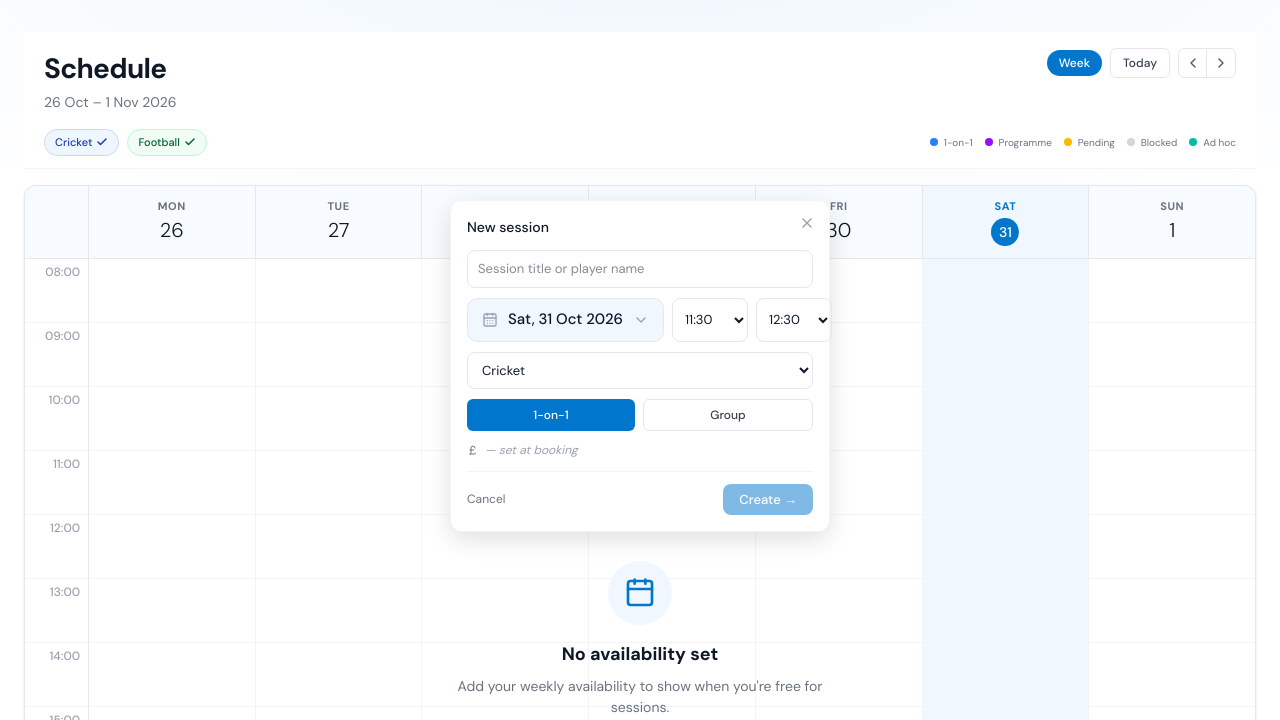
Scenario: Schedule — ?action=new-session auto-open (BUG-43) › the X button dismisses and stays dismissed
This screenshot has width=1280, height=720.
(page scrolled)
Check: the heading "New session" is shown, box 467,218 -> 549,236
Step 1. Click the button named "Close" → click(807, 223), box 785,201 -> 829,245
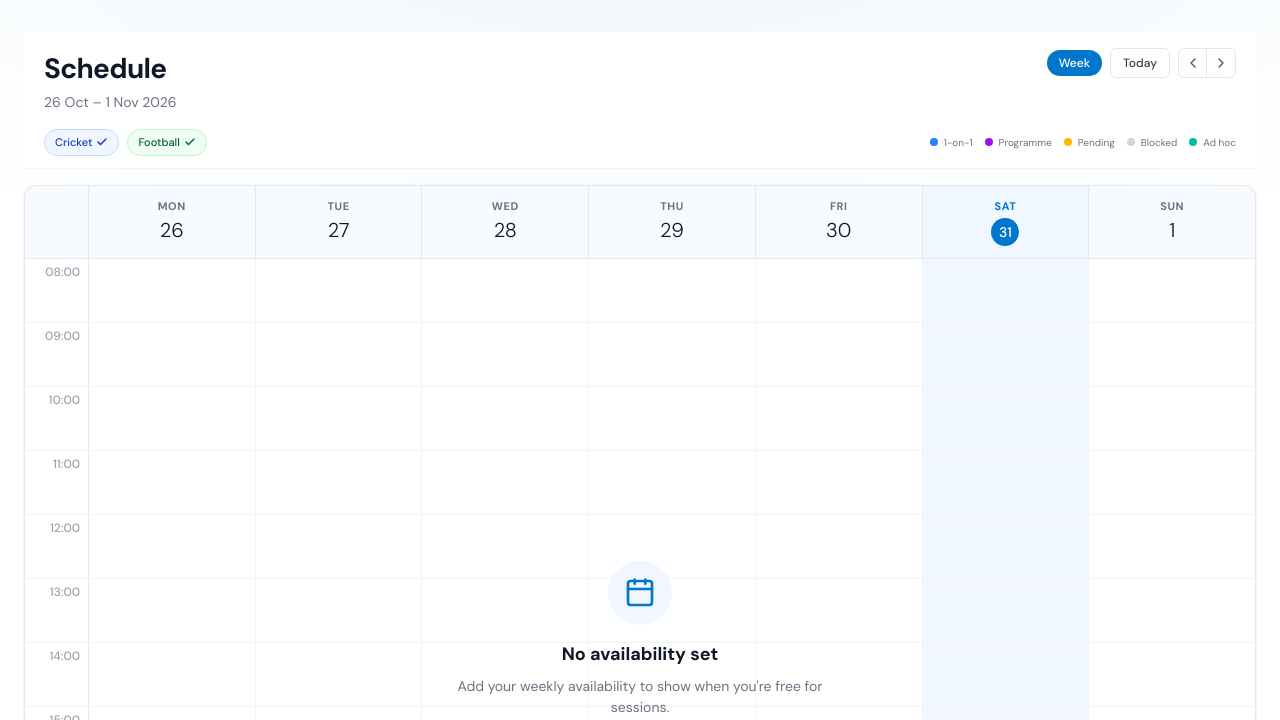
Check: the heading "New session" is gone
